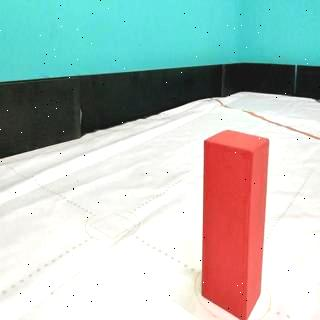redbox: (202, 129, 270, 320)
